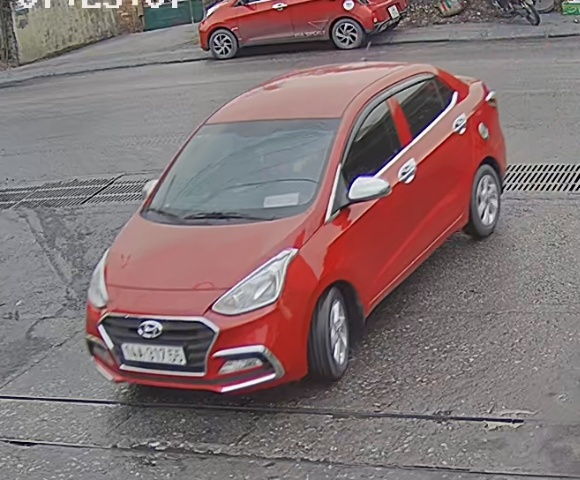vehicle plate: (116, 340, 197, 371)
